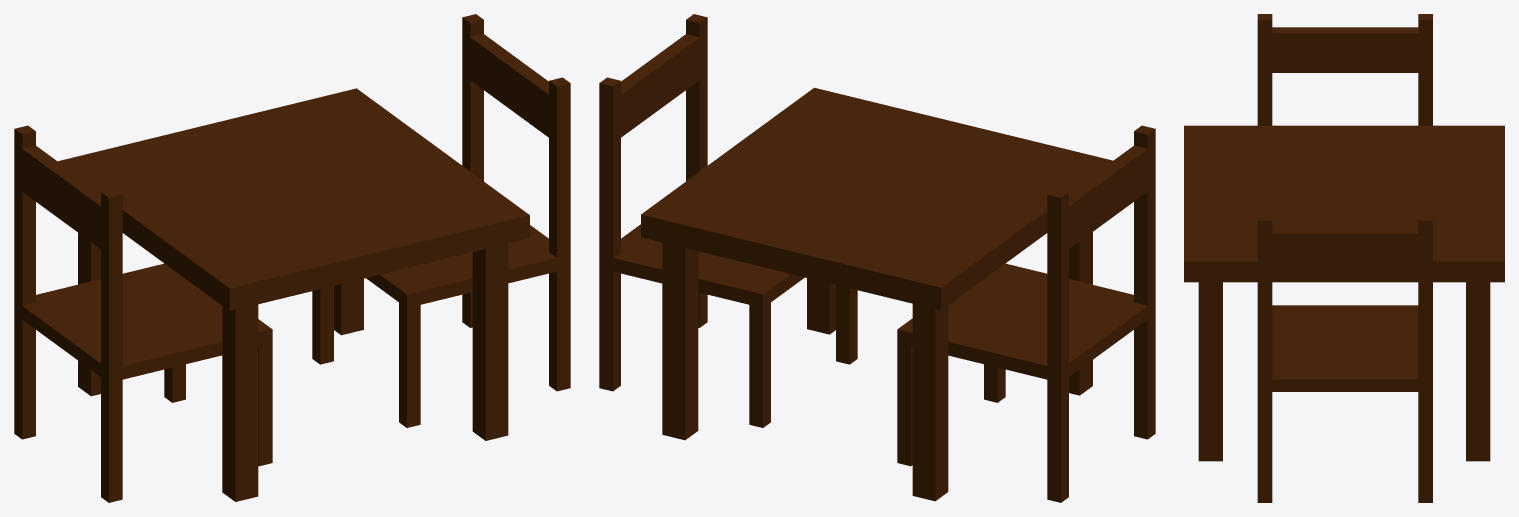
The model's file is SillaYMesaMadera.fbx.
3 views of the same model, side by side, from view 1: azimuth 30°, elevation 25°; view 2: azimuth 150°, elevation 25°; view 3: azimuth 270°, elevation 25° (orthographic). The views are drawn at different scales.
Parts seen in each view (by area): view 1: Cube.002; view 2: Cube.002; view 3: Cube.002.
Boxes of the visible parts, x1,y1,x2,y2 form: Cube.002: [14, 14, 570, 502]; Cube.002: [599, 14, 1155, 502]; Cube.002: [1184, 14, 1504, 502].
Bounding box in the file's own units: 338 × 215 × 220.
